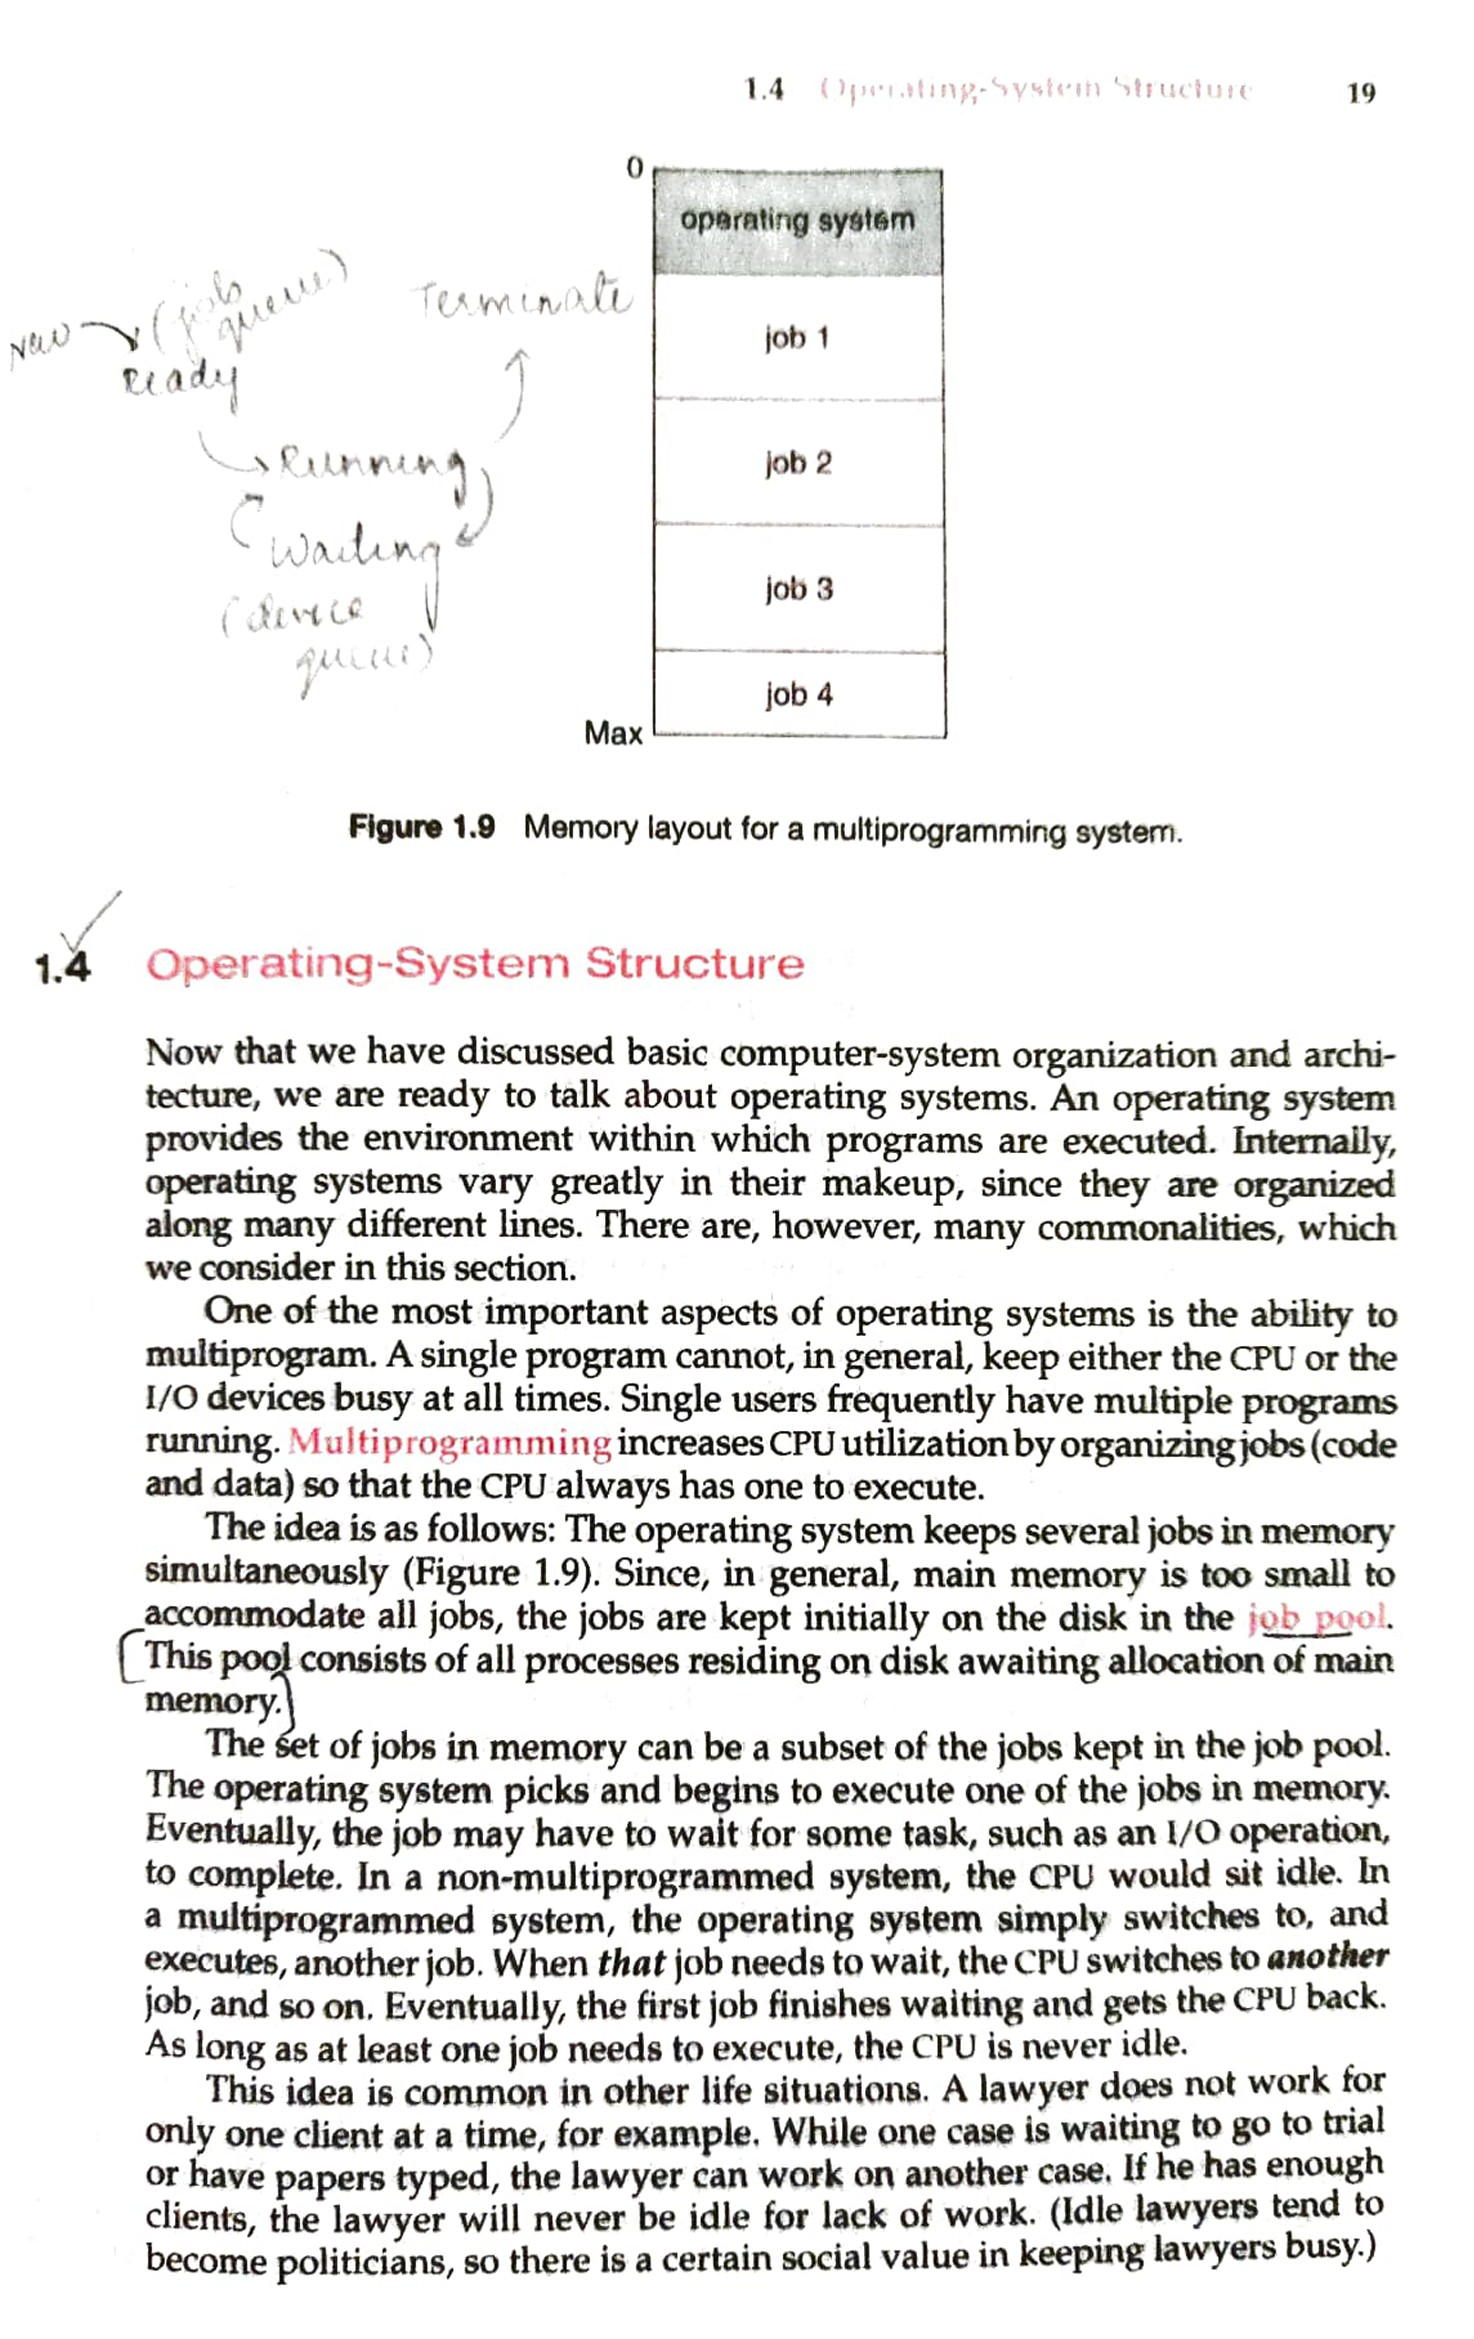BB1: (97, 1015, 1437, 1293)
BB2: (97, 1293, 1447, 1719)
BB3: (93, 1714, 1440, 2073)
BB4: (93, 2066, 1430, 2283)
